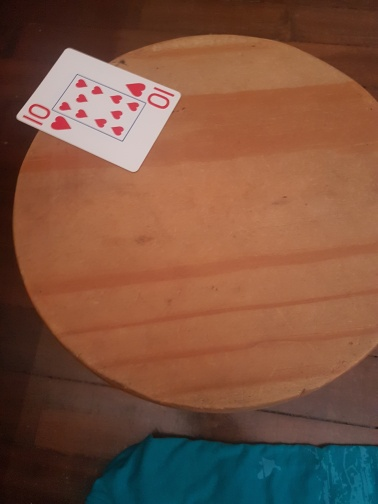ten: (17, 48, 182, 173)
